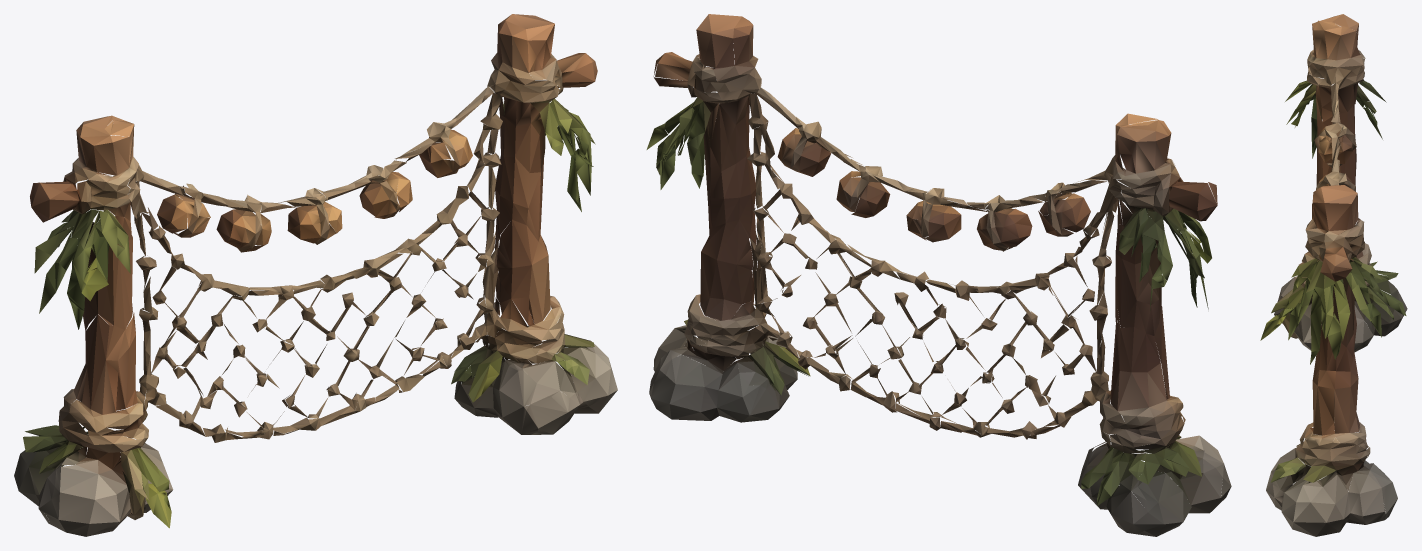
Rendered from building-fishNet.glb.
3 renders of one model, left to right at view 1: azimuth 30°, elevation 25°; view 2: azimuth 150°, elevation 25°; view 3: azimuth 270°, elevation 25°, orthographic. The views are drawn at different scales.
Parts seen in each view (by area): view 1: 0_fishNet; view 2: 0_fishNet; view 3: 0_fishNet.
Part boxes in pixels (x1,y1,x2,y2): 0_fishNet: (14,14,617,536); 0_fishNet: (646,14,1231,536); 0_fishNet: (1260,14,1407,536).
Bounding box in the file's own units: 3.84 × 2.49 × 1.03.
